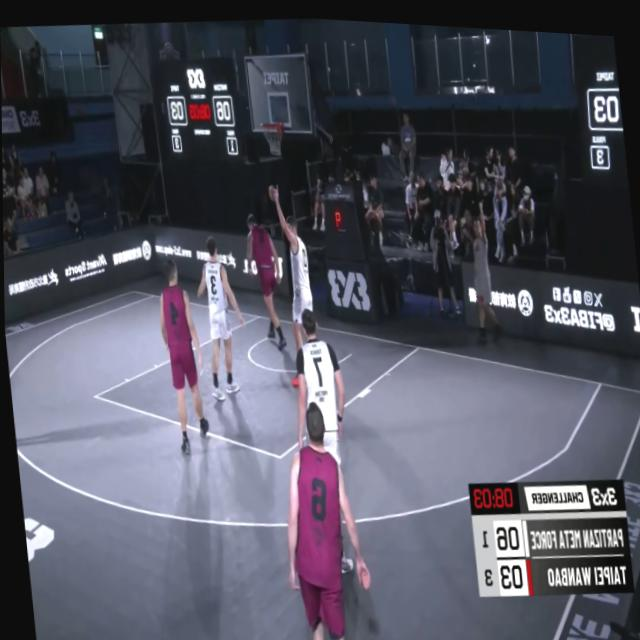hoop: (256, 107, 289, 159)
player: (268, 388, 380, 640), (278, 293, 360, 566), (263, 172, 324, 384), (151, 249, 212, 459), (188, 231, 250, 402), (239, 201, 288, 352)
